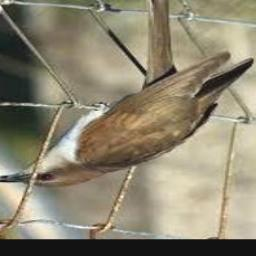Cuckoo: (0, 0, 253, 188)
